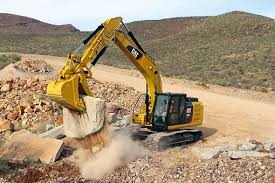excavator: (45, 18, 207, 154)
